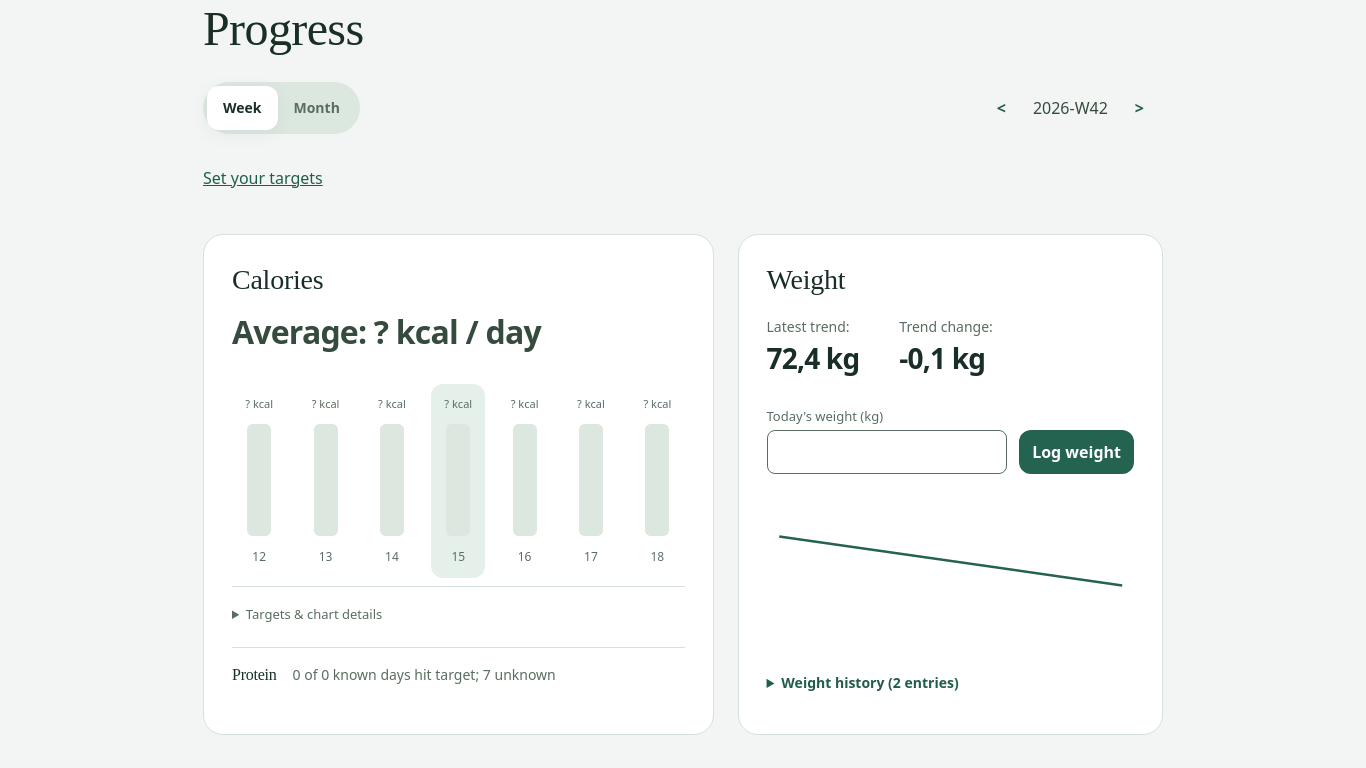
Test case: keeps the weight chart visible and reveals entry actions only when history is opened
The image size is (1366, 768).
Check: the picture named "Weight trend over the last 30 entries" is shown, box [766, 486, 1134, 636]
Step 1. Click the heading "Weight history (2 entries)" → (870,683), box [781, 673, 959, 692]
(page scrolled)
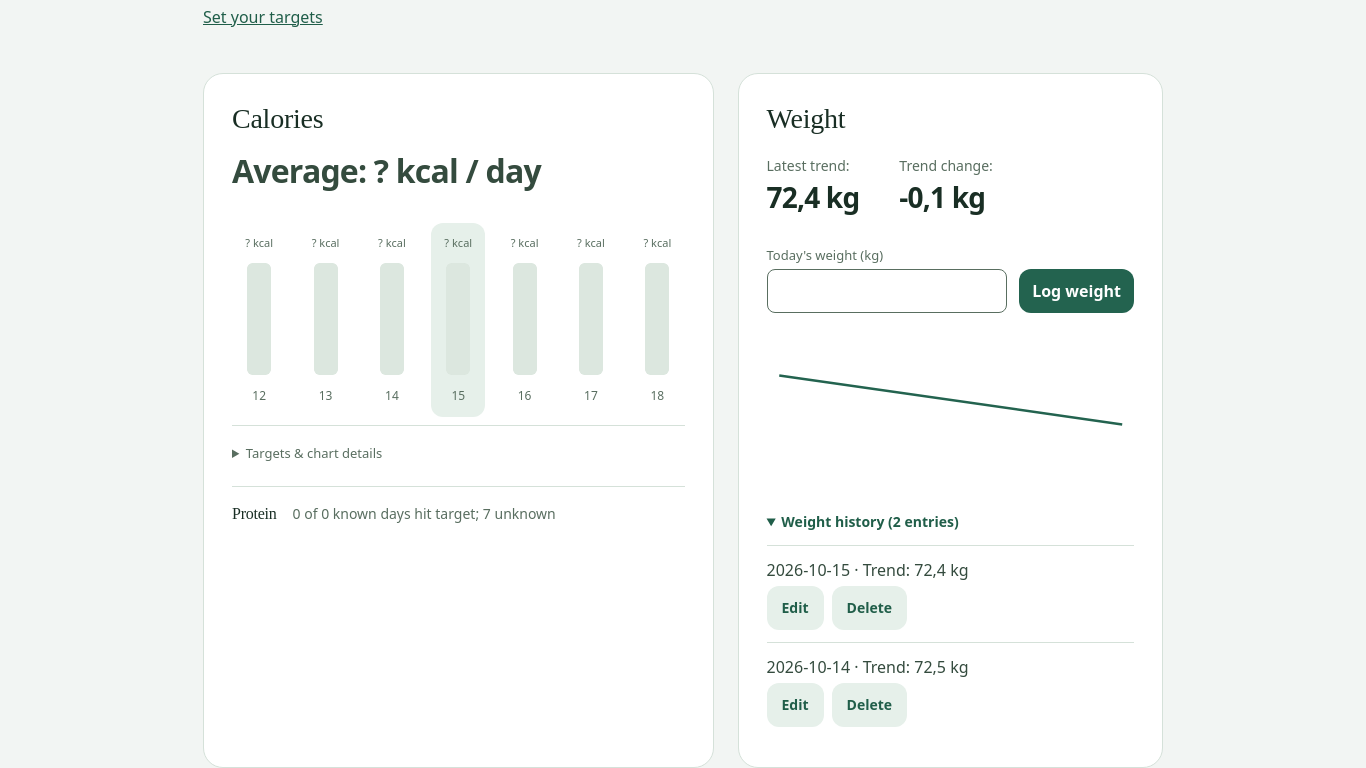
Check: the button with aria-label "Edit weight 2026-10-15" is shown, box [766, 586, 824, 630]
Check: the button with aria-label "Delete weight 2026-10-15" is shown, box [832, 586, 907, 630]
